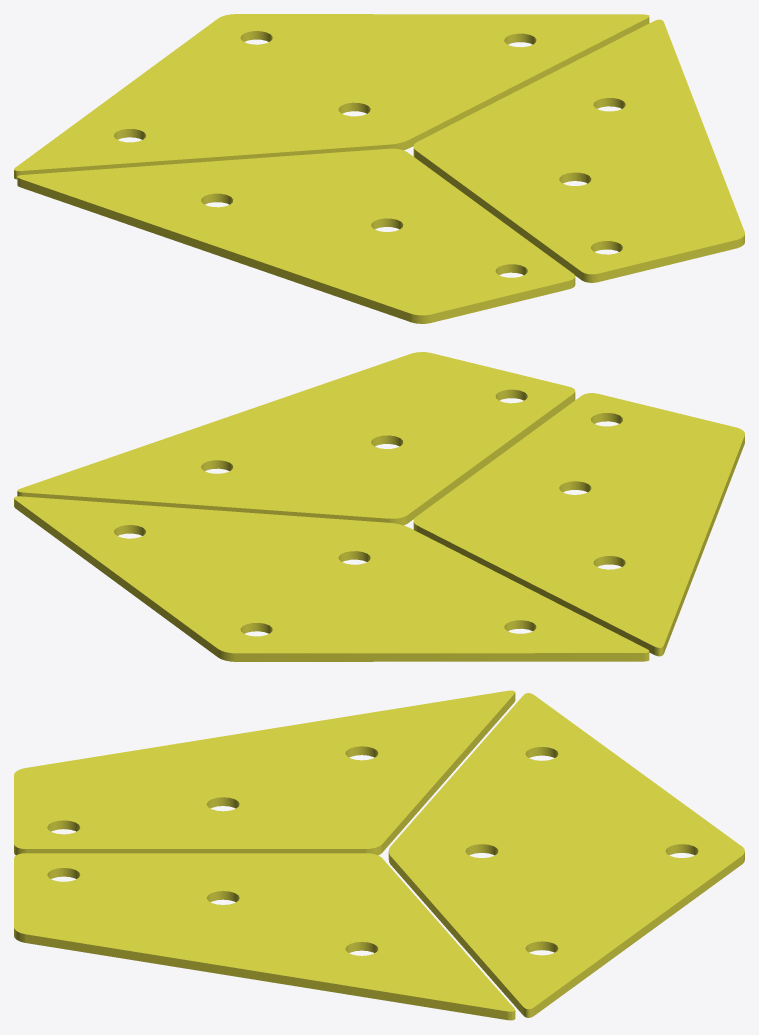
The model's file is 5-angle.fbx.
The picture shows the model from 3 angles, top to bottom: view 1: azimuth 30°, elevation 25°; view 2: azimuth 150°, elevation 25°; view 3: azimuth 270°, elevation 25°; orthographic projection. The views are drawn at different scales.
Visible parts, largest first — view 1: 5-angle_top, 5-angle_side_R, 5-angle_side_L; view 2: 5-angle_top, 5-angle_side_L, 5-angle_side_R; view 3: 5-angle_top, 5-angle_side_L, 5-angle_side_R.
Boxes of the visible parts, x1,y1,x2,y2 form: 5-angle_top: [14, 14, 744, 323]; 5-angle_side_R: [17, 148, 575, 322]; 5-angle_side_L: [413, 19, 744, 282]; 5-angle_top: [14, 392, 663, 661]; 5-angle_side_L: [17, 352, 575, 523]; 5-angle_side_R: [413, 393, 744, 654]; 5-angle_top: [14, 692, 744, 1020]; 5-angle_side_L: [14, 853, 514, 1019]; 5-angle_side_R: [14, 690, 514, 853].
Bounding box in the file's own units: 3.8 × 0.048 × 3.65.
